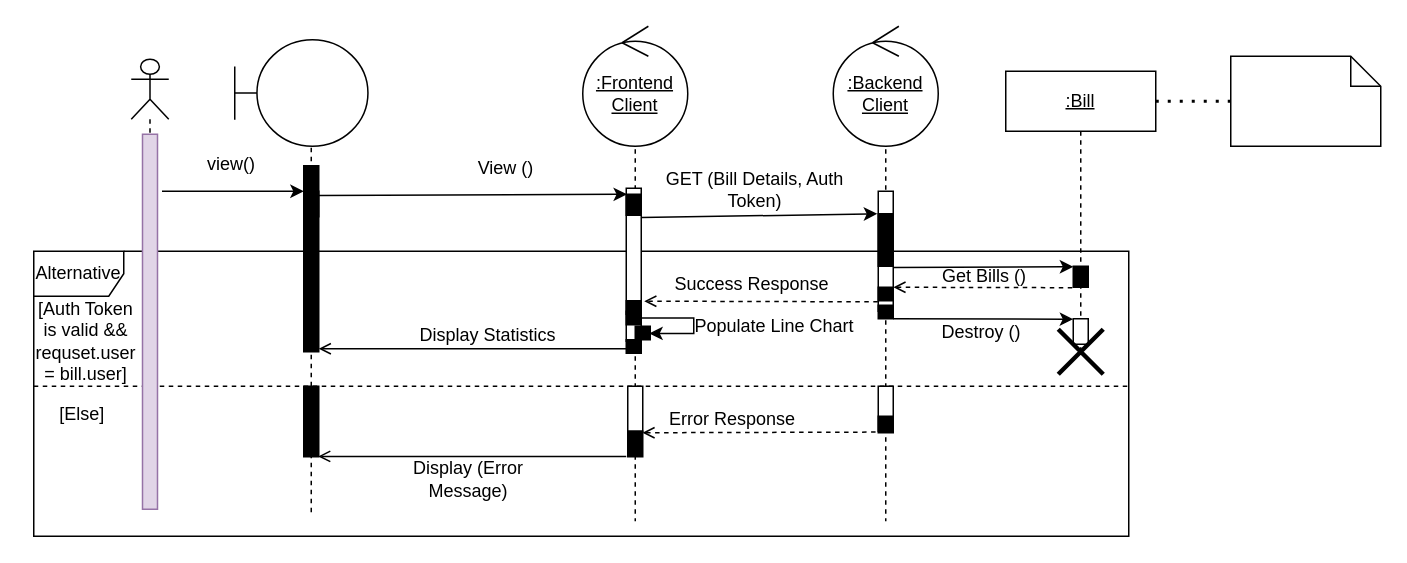
Some shapes in this 1407 by 563 pixel diagram are drawn without their labels. The centre of each missing label's shape, as x and y in pixels:
:Dashboard UI: pixel 300 92
Instance of Bill Table in Database: pixel 1305 100
User: pixel 149 283
